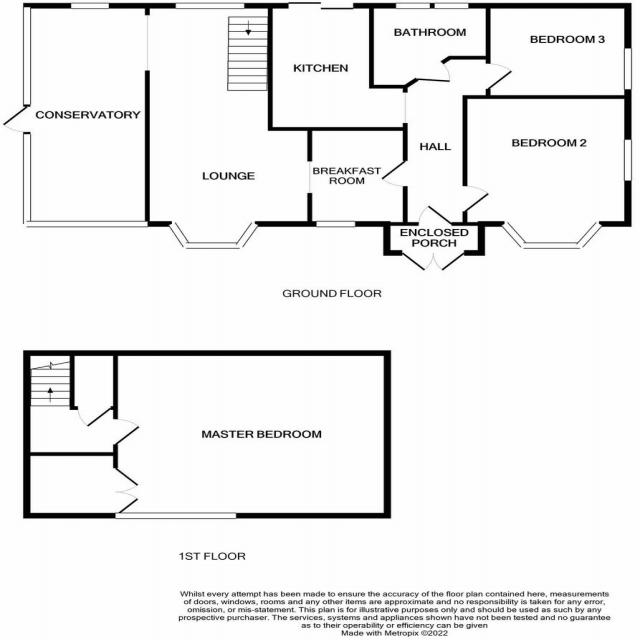DOOR: (1, 102, 34, 135), (414, 60, 451, 83), (113, 418, 141, 446), (380, 159, 408, 187), (462, 185, 490, 212), (485, 63, 513, 90)
DOUBLE DOOR: (399, 250, 468, 273)
ROOM: (23, 350, 392, 520), (462, 95, 632, 249), (268, 2, 408, 131), (486, 3, 632, 99)
WINDOW: (17, 130, 151, 232), (500, 220, 603, 249), (167, 220, 260, 250), (20, 3, 40, 108), (114, 512, 238, 520), (175, 3, 245, 9), (624, 139, 632, 181), (624, 48, 632, 90), (315, 220, 356, 228), (433, 2, 470, 10), (395, 3, 431, 9)
